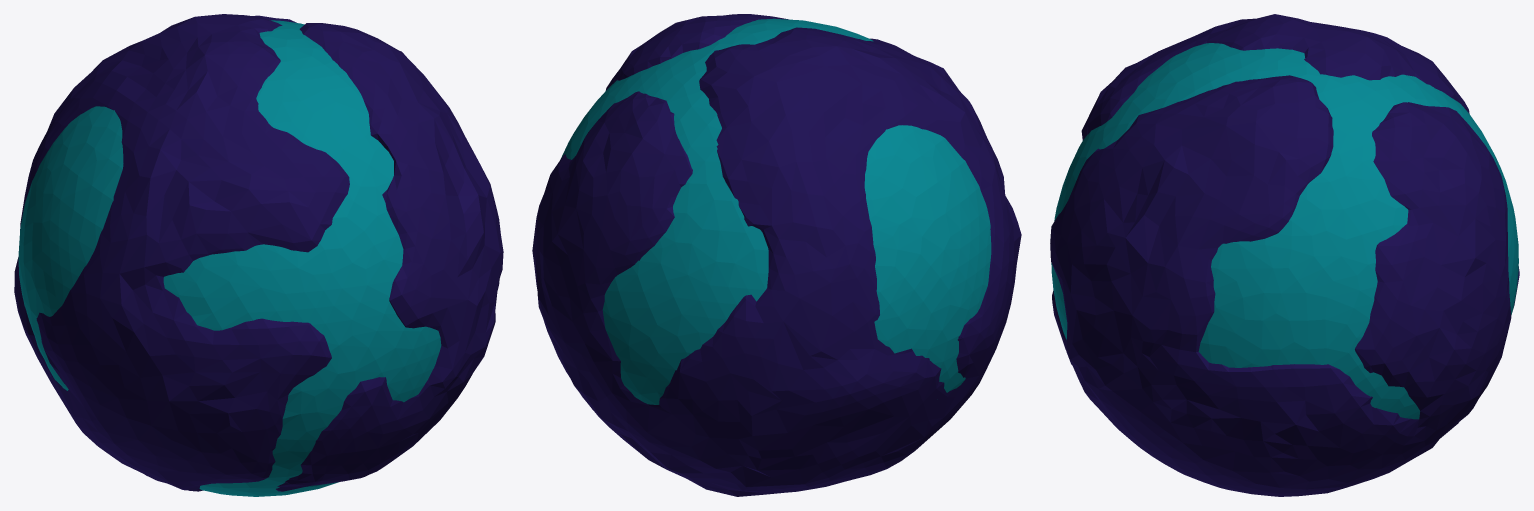
Rendered from Planet_18.glb.
The picture shows the model from 3 angles, left to right: view 1: azimuth 30°, elevation 25°; view 2: azimuth 150°, elevation 25°; view 3: azimuth 270°, elevation 25°; orthographic projection. The views are drawn at different scales.
Parts seen in each view (by area): view 1: Planet_18; view 2: Planet_18; view 3: Planet_18.
Boxes of the visible parts, <box> form: Planet_18: <box>14,14,503,496</box>; Planet_18: <box>532,14,1021,496</box>; Planet_18: <box>1050,14,1519,496</box>.
Size of the model in its own units: 19.72 by 19.93 by 19.53.
Materials: 1 (1 with a texture image).
